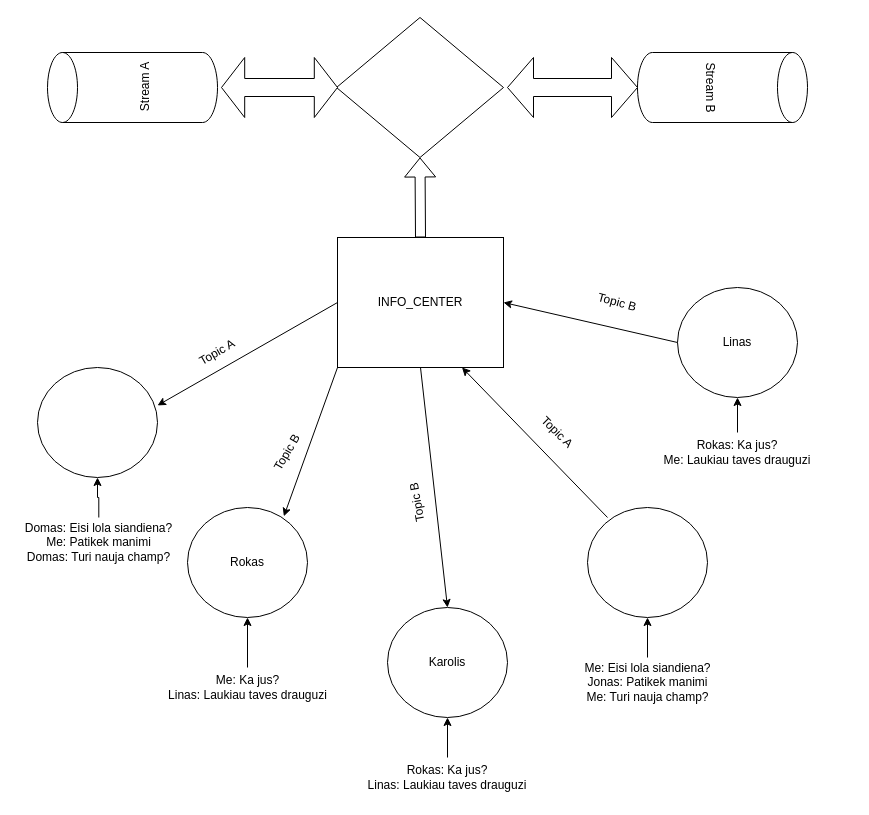
This 869x815 diagram has some shape labels left out. The centre of each missing label's shape, as x and y in pixels:
"Coordinator" goes at (420,87).
"Domas" goes at (647,562).
"Jonas" goes at (97,422).
